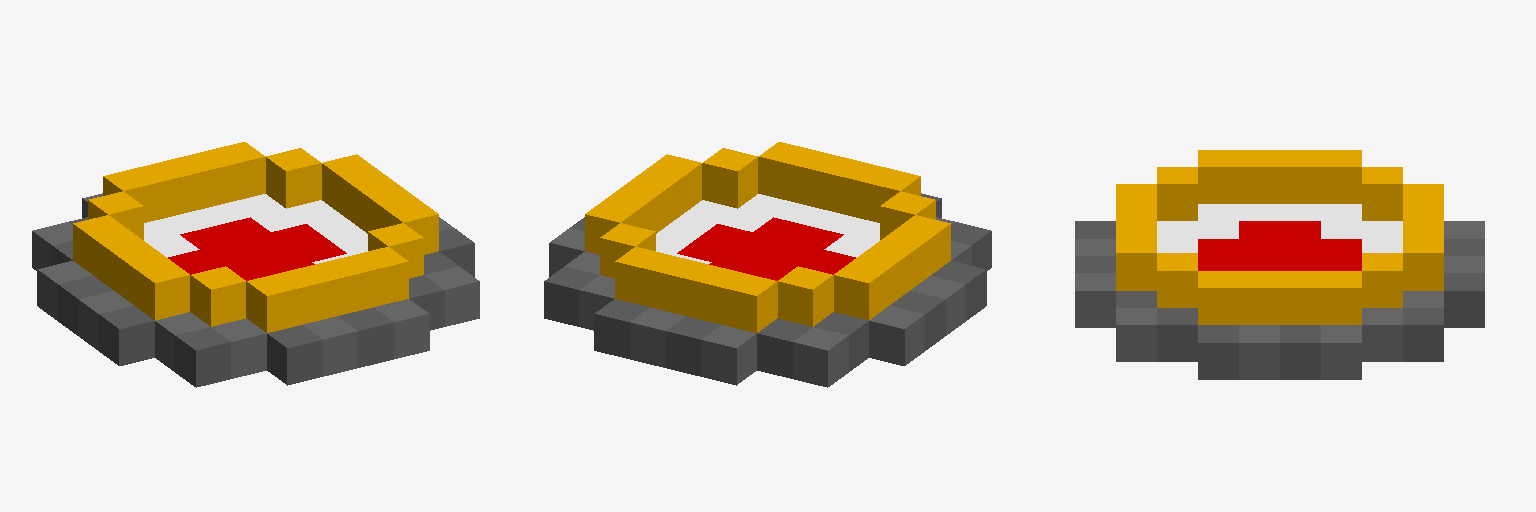
The picture shows the model from 3 angles: view 1: azimuth 30°, elevation 25°; view 2: azimuth 150°, elevation 25°; view 3: azimuth 270°, elevation 25°; orthographic projection.
Bounding box in the file's own units: 10 × 2 × 10.
Materials: 1 (1 with a texture image).